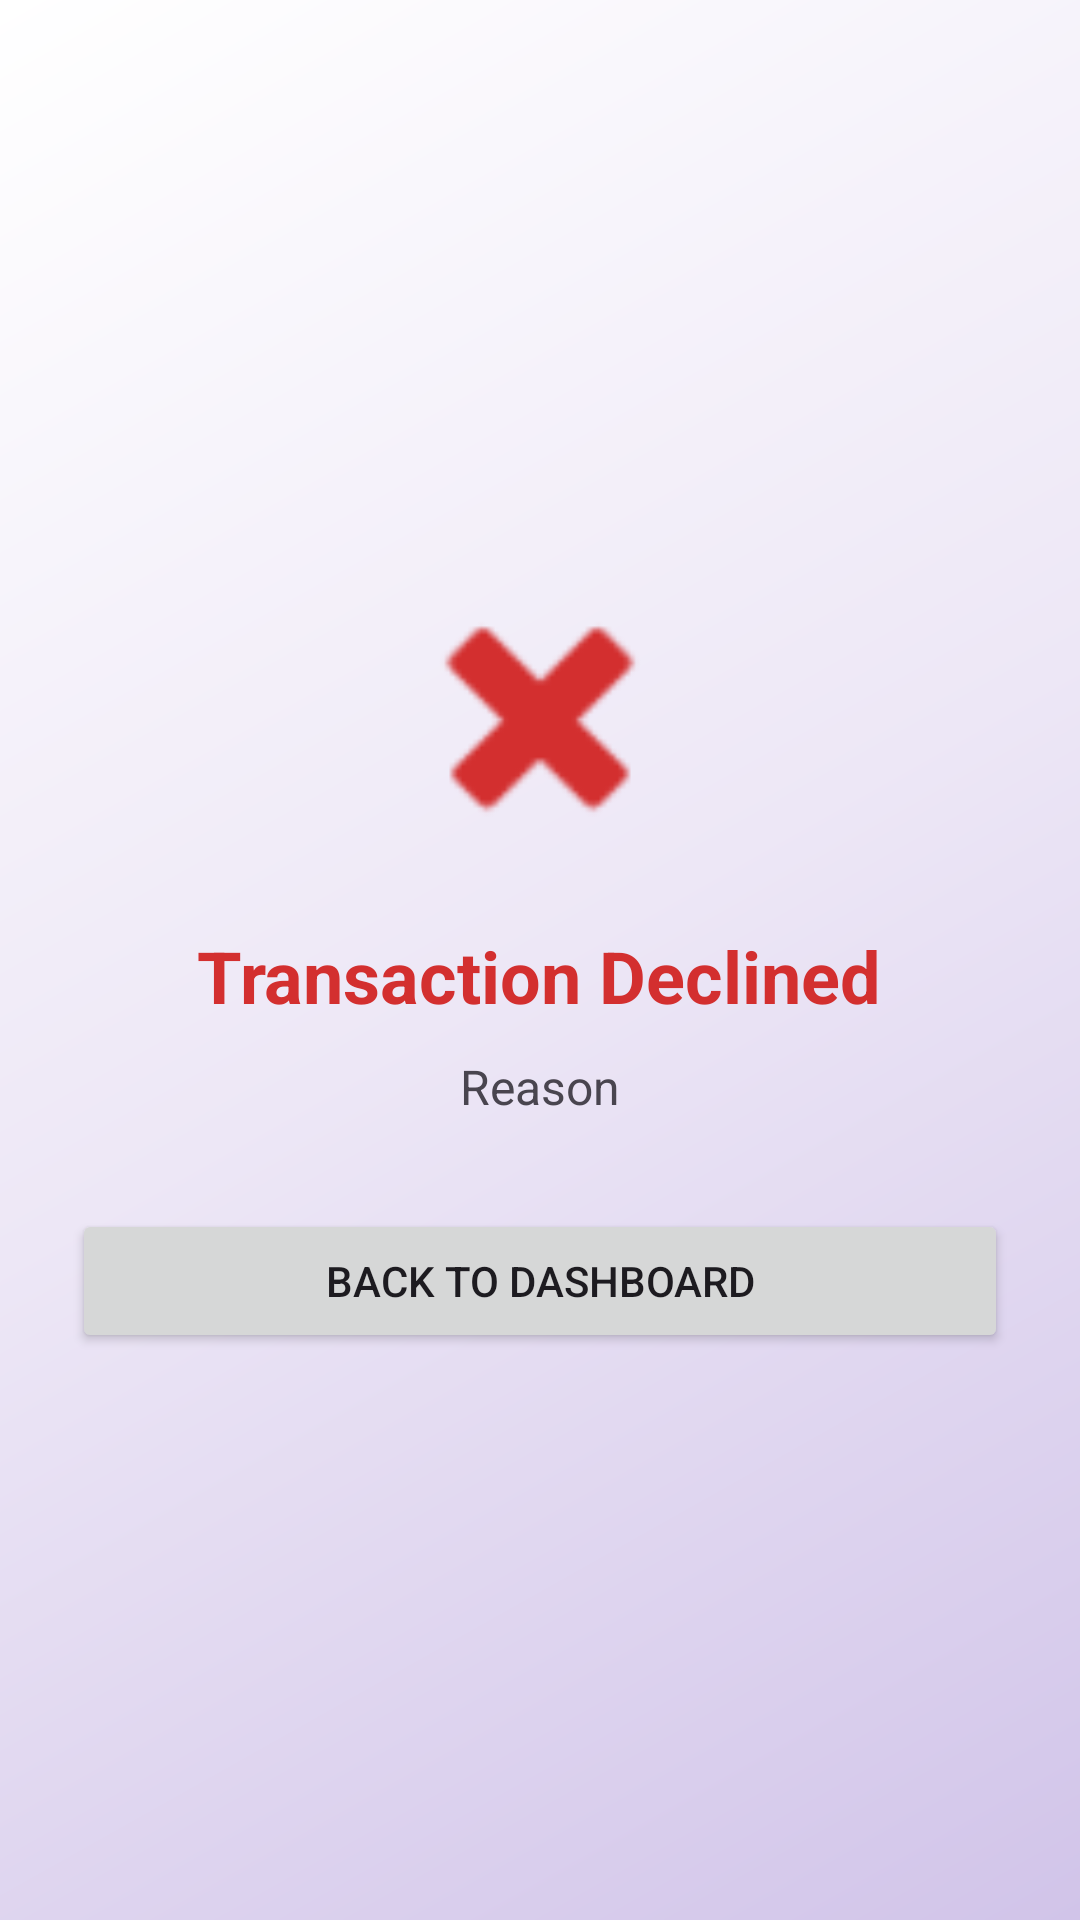

Screen size 1080 × 1920. Icon name, then its center in pixels as [x,y]:
delete: [540,719]
